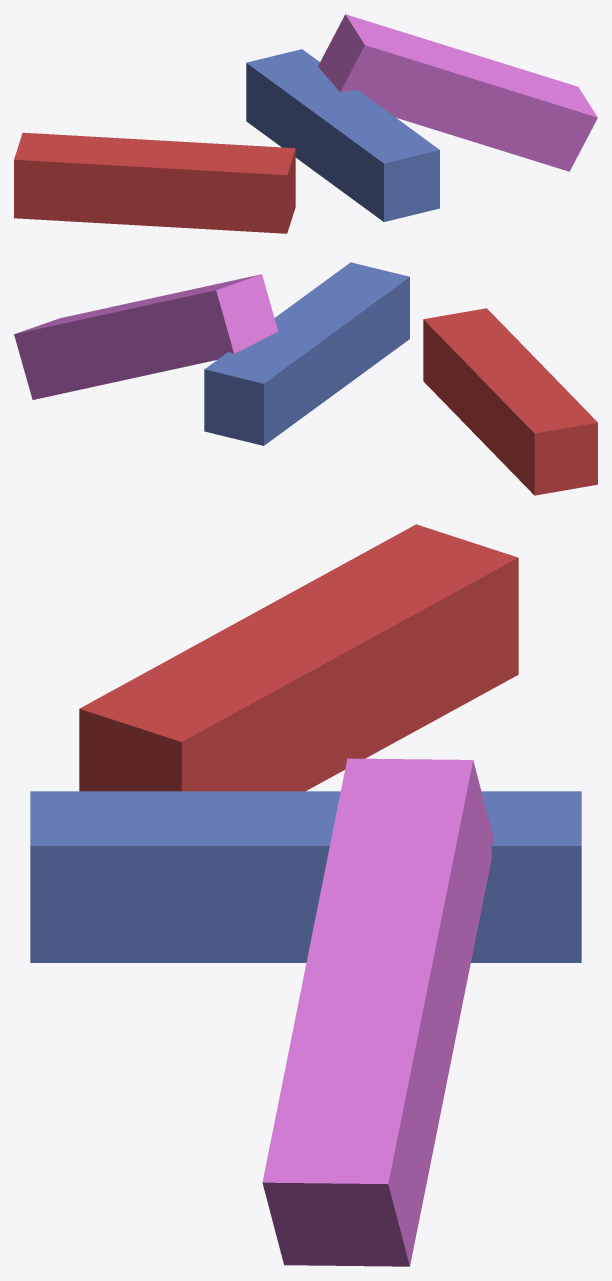
The model's file is chalk.fbx.
3 renders of one model, top to bottom at view 1: azimuth 30°, elevation 25°; view 2: azimuth 150°, elevation 25°; view 3: azimuth 270°, elevation 25°, orthographic. The views are drawn at different scales.
Visible parts, largest first — view 1: Cube159; view 2: Cube159; view 3: Cube159.
Boxes of the visible parts, bbox=[...] form: Cube159: bbox=[14, 14, 597, 233]; Cube159: bbox=[14, 262, 597, 495]; Cube159: bbox=[30, 524, 581, 1266].
Size of the model in its own units: 341 by 97.24 by 146.
